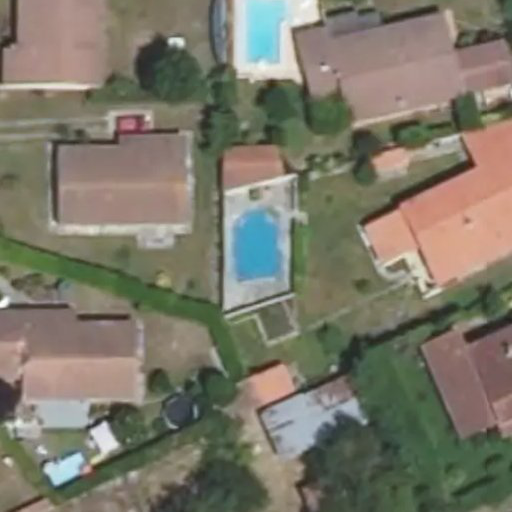pool: (231, 205, 280, 278)
